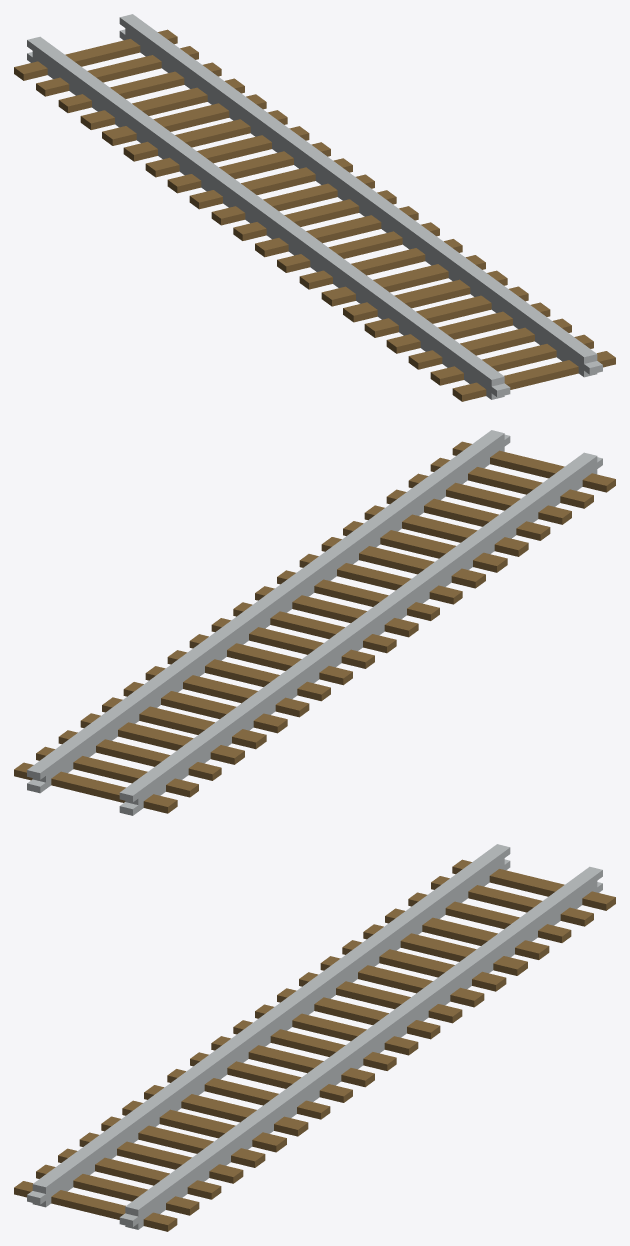
Rendered from track.glb.
3 renders of one model, top to bottom at view 1: azimuth 30°, elevation 25°; view 2: azimuth 150°, elevation 25°; view 3: azimuth 330°, elevation 25°, orthographic.
Parts seen in each view (by area): view 1: Mesh_Mesh_head_geo.001_lambert2SG.001; view 2: Mesh_Mesh_head_geo.001_lambert2SG.001; view 3: Mesh_Mesh_head_geo.001_lambert2SG.001.
Boxes of the visible parts, <box> form: Mesh_Mesh_head_geo.001_lambert2SG.001: <box>14,14,615,401</box>; Mesh_Mesh_head_geo.001_lambert2SG.001: <box>14,430,615,815</box>; Mesh_Mesh_head_geo.001_lambert2SG.001: <box>14,844,615,1231</box>.
Bounding box in the file's own units: 24 × 3 × 127.
